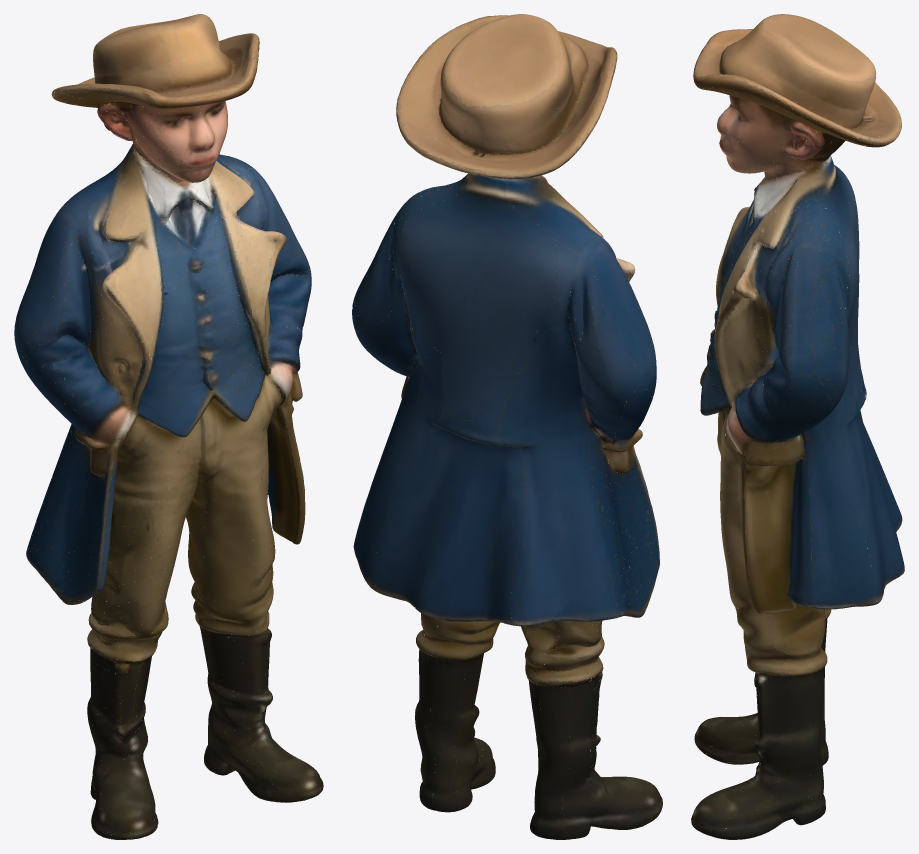
Rendered from char_child_m.glb.
3 views of the same model, side by side, from view 1: azimuth 30°, elevation 25°; view 2: azimuth 150°, elevation 25°; view 3: azimuth 270°, elevation 25° (orthographic). The views are drawn at different scales.
Visible parts, largest first — view 1: geometry_0; view 2: geometry_0; view 3: geometry_0.
Part boxes in pixels (x1,y1,x2,y2): geometry_0: (14, 14, 323, 839); geometry_0: (352, 14, 662, 839); geometry_0: (691, 14, 904, 839).
Size of the model in its own units: 0.4601 by 1.2 by 0.3053.
Materials: 1 (1 with a texture image).
